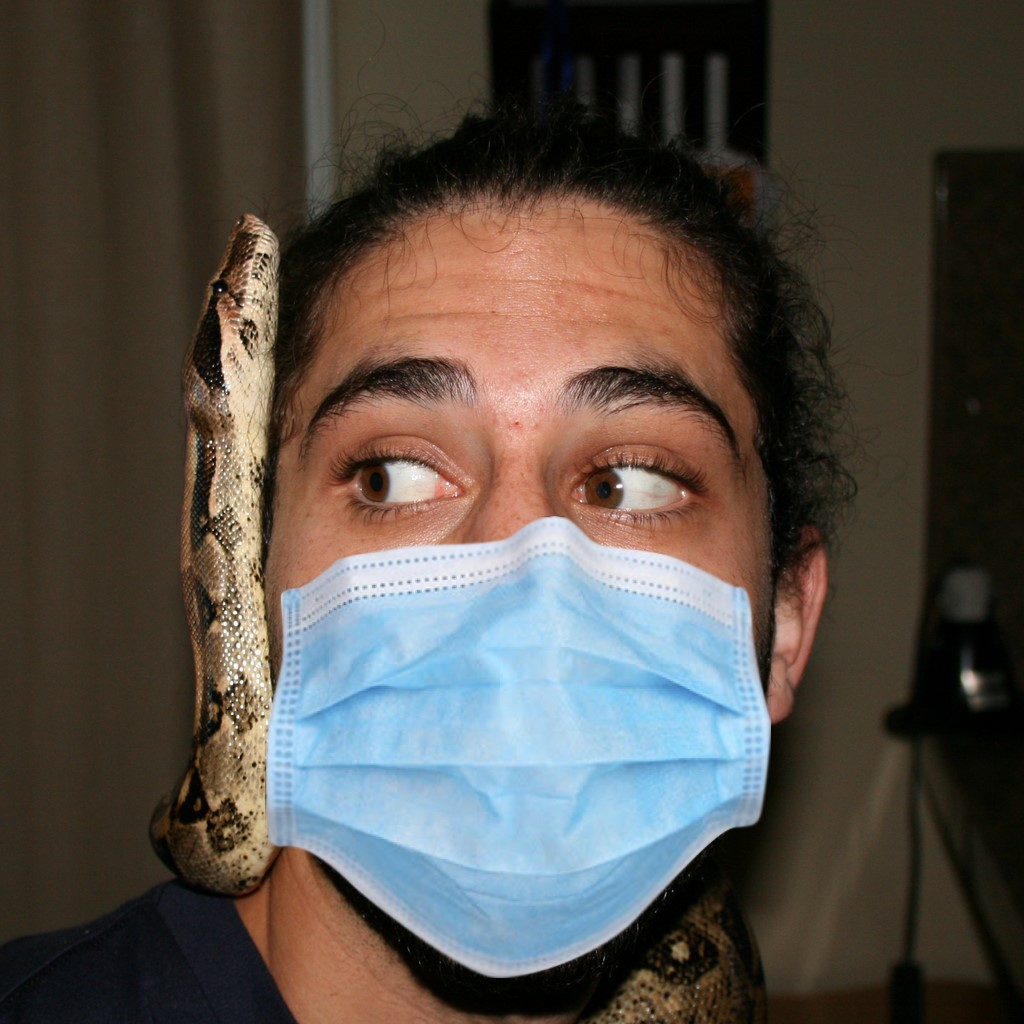con_mascara: (257, 207, 782, 957)
